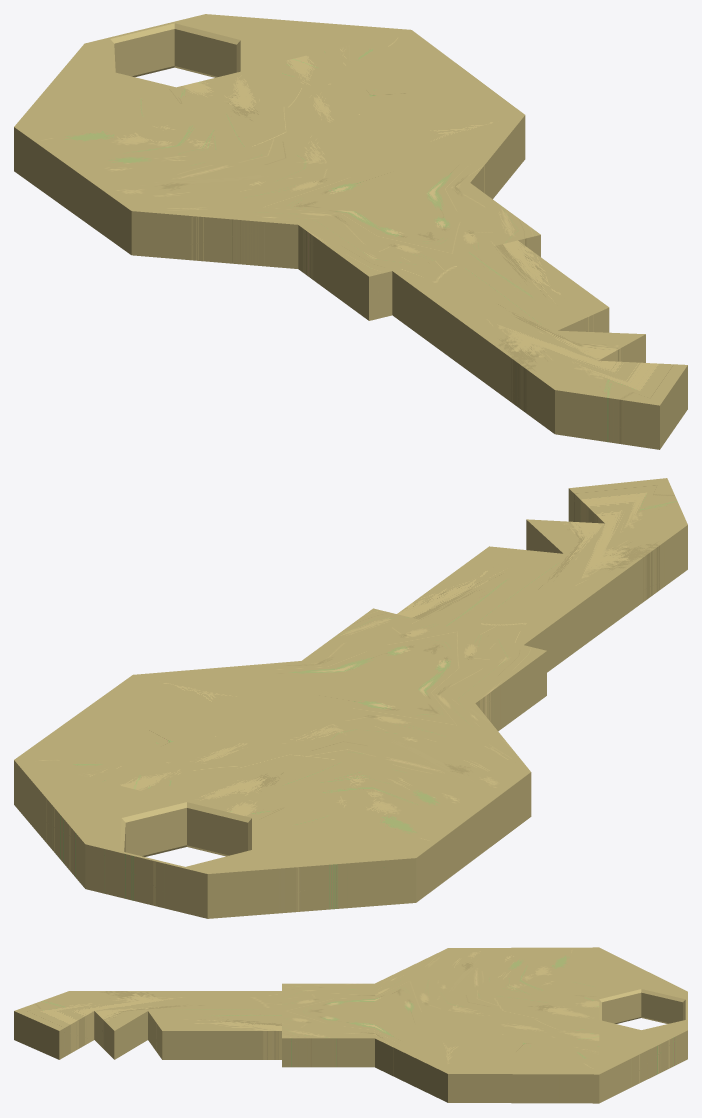
File: key.fbx
The picture shows the model from 3 angles, top to bottom: view 1: azimuth 30°, elevation 25°; view 2: azimuth 150°, elevation 25°; view 3: azimuth 270°, elevation 25°; orthographic projection. The views are drawn at different scales.
Visible parts, largest first — view 1: pCube2; view 2: pCube2; view 3: pCube2.
Boxes of the visible parts, x1,y1,x2,y2 form: pCube2: (14, 14, 687, 449); pCube2: (14, 478, 687, 918); pCube2: (14, 947, 687, 1103).
Bounding box in the file's own units: 1.37 × 0.1458 × 3.07.
Materials: 1 (1 with a texture image).
